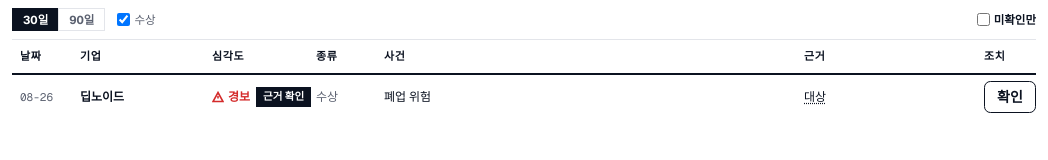
Test: EventTable › keeps the row and says why when the confirm is refused
What coordinates should you click on to do the following:
click the button with aria-label "폐업 위험 확인"
I would click on:
 (1010, 97)
Its box is x1=984 y1=81 x2=1036 y2=113.
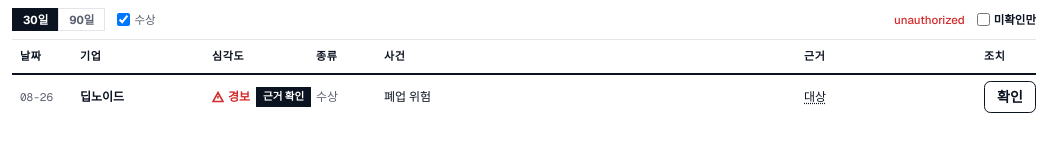
Now the message reads "unauthorized", box x1=894 y1=12 x2=965 y2=27
